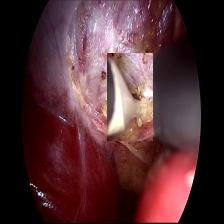Hook: (107, 53, 153, 141)
